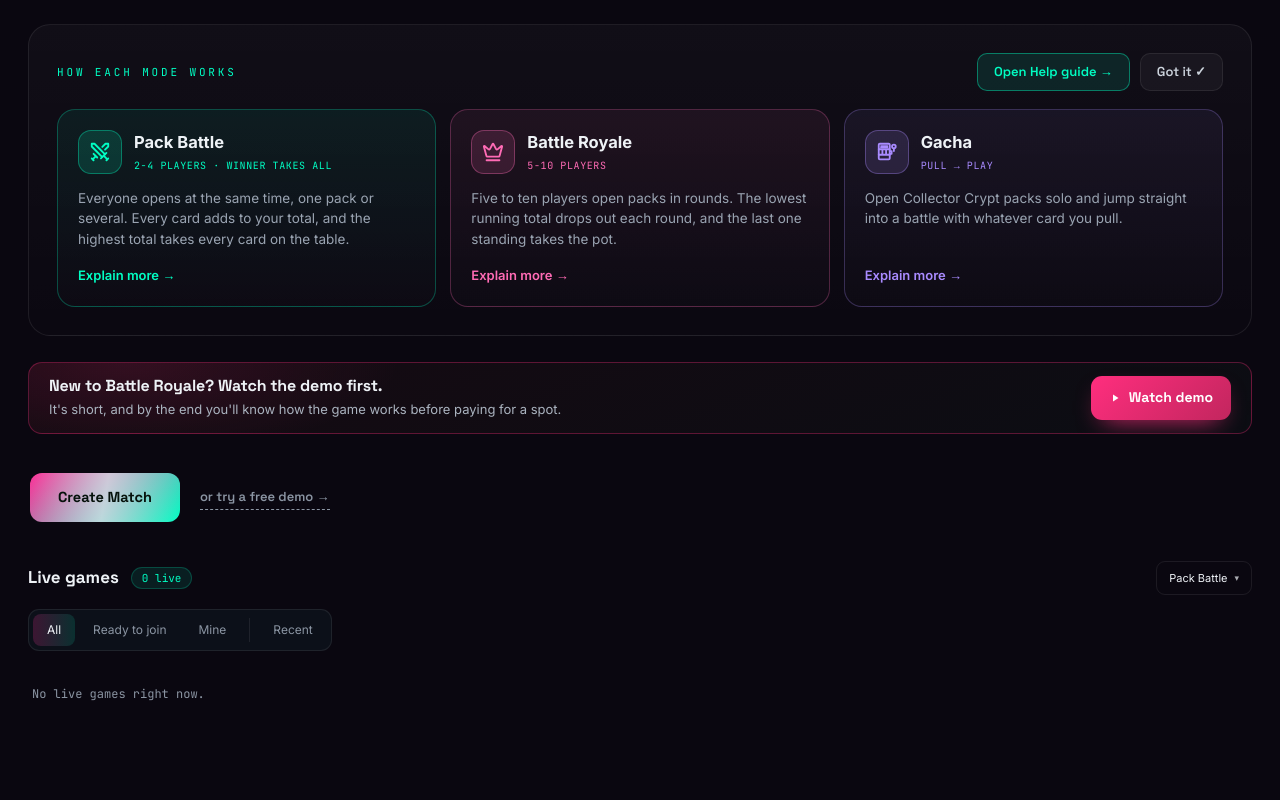
Test case: Lobby · lo que enseña la card de una partida terminada › el bote es el real y el ×N sale de ese número (maqueta ancha)
Step 1. Click the text "Recent" → {"x": 293, "y": 630}, box [273,622,313,637]
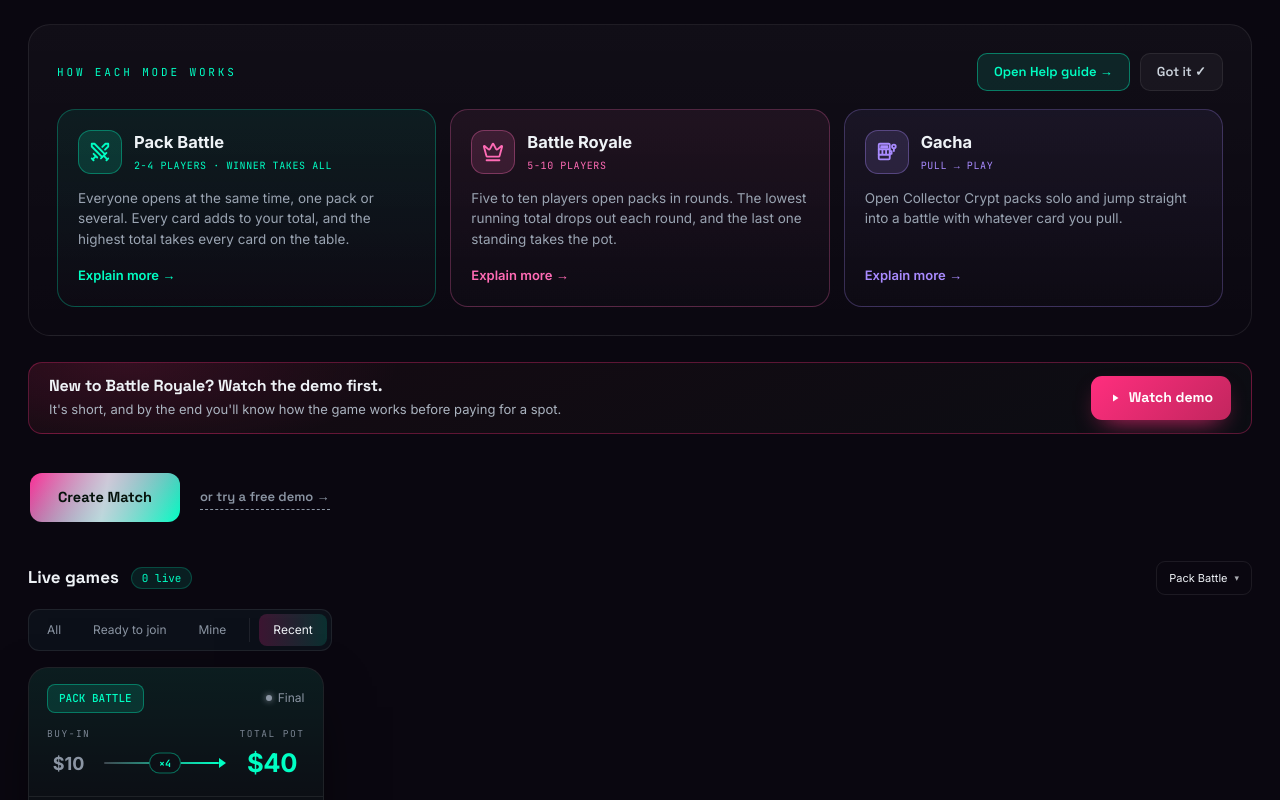
Result: the text "TOTAL POT" is shown at [240,727,304,741]
Result: the text "$40" is shown at [247,747,297,778]
Result: the text "×4" is shown at [149,752,181,774]
